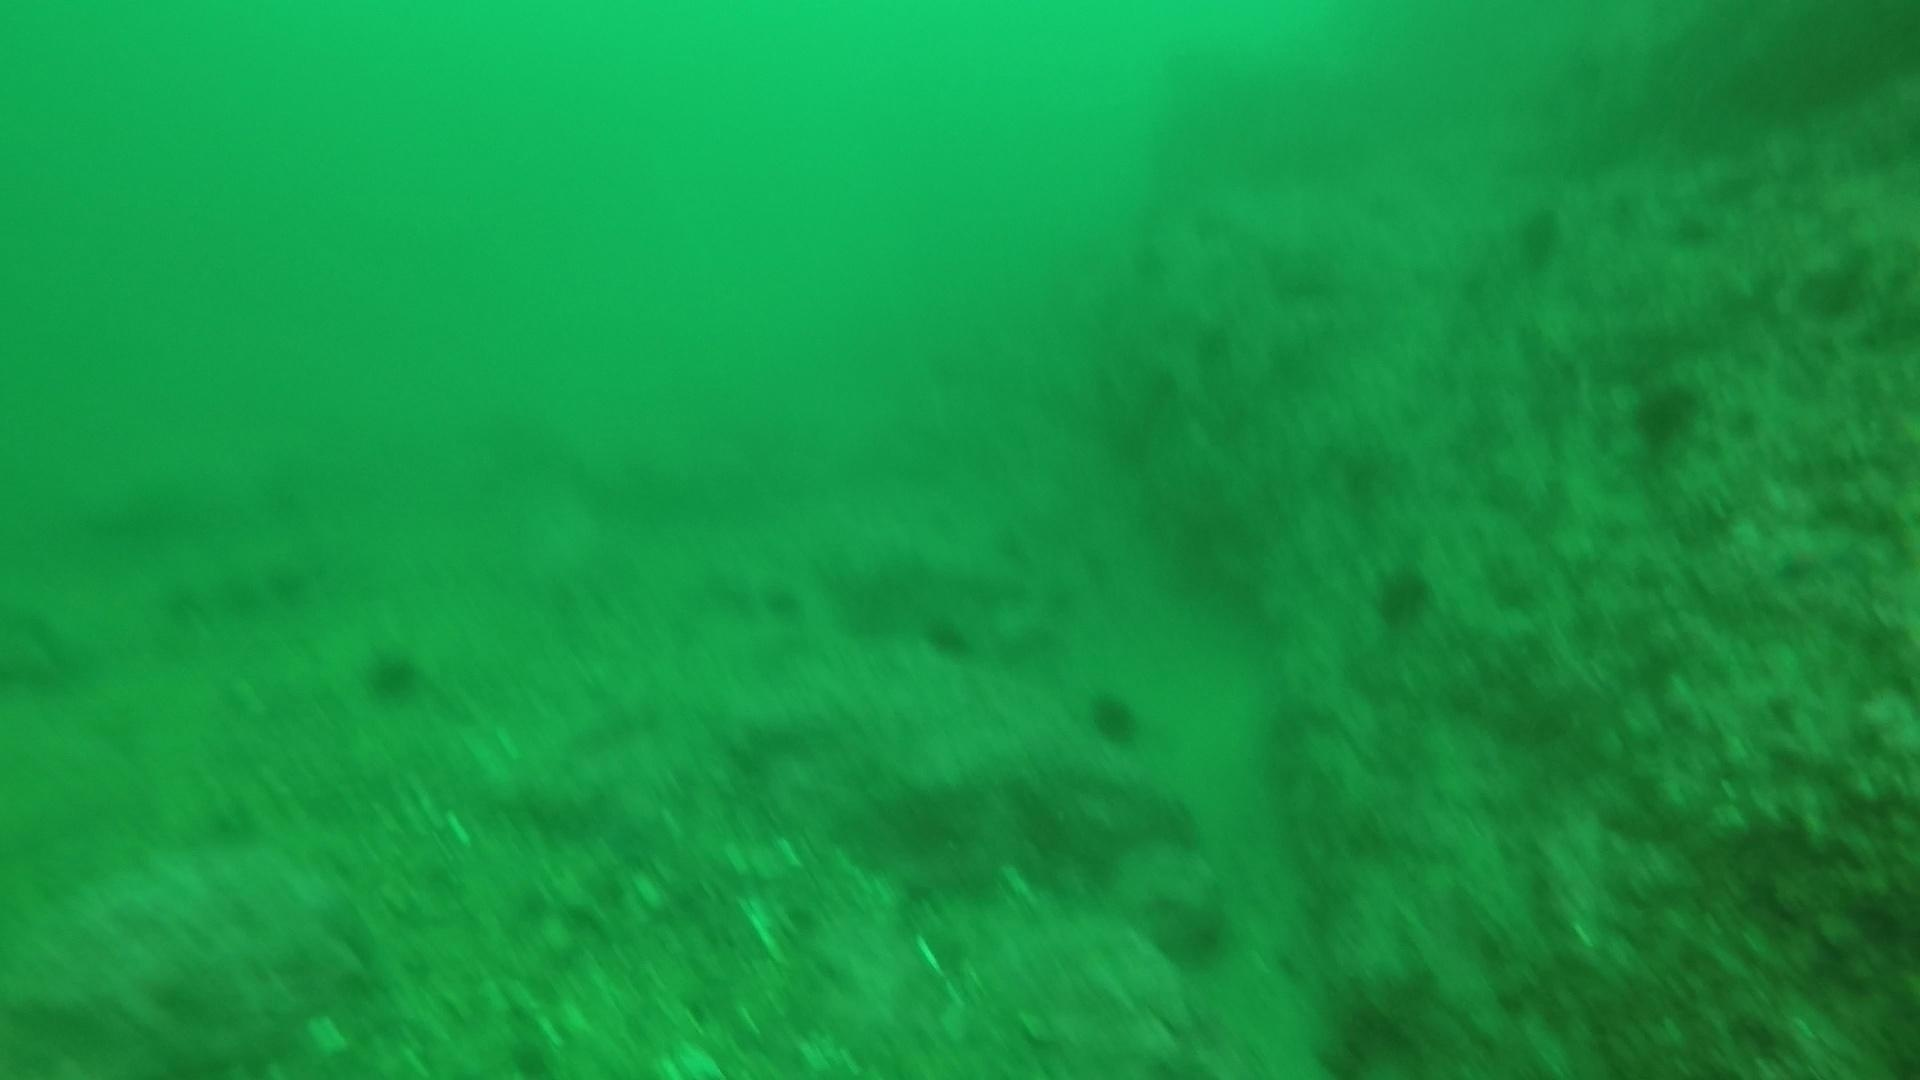echinus: (1145, 891, 1237, 973), (1626, 375, 1708, 452), (1367, 558, 1439, 632), (357, 640, 429, 704), (1506, 200, 1569, 270), (1083, 686, 1147, 748), (919, 611, 977, 663)
